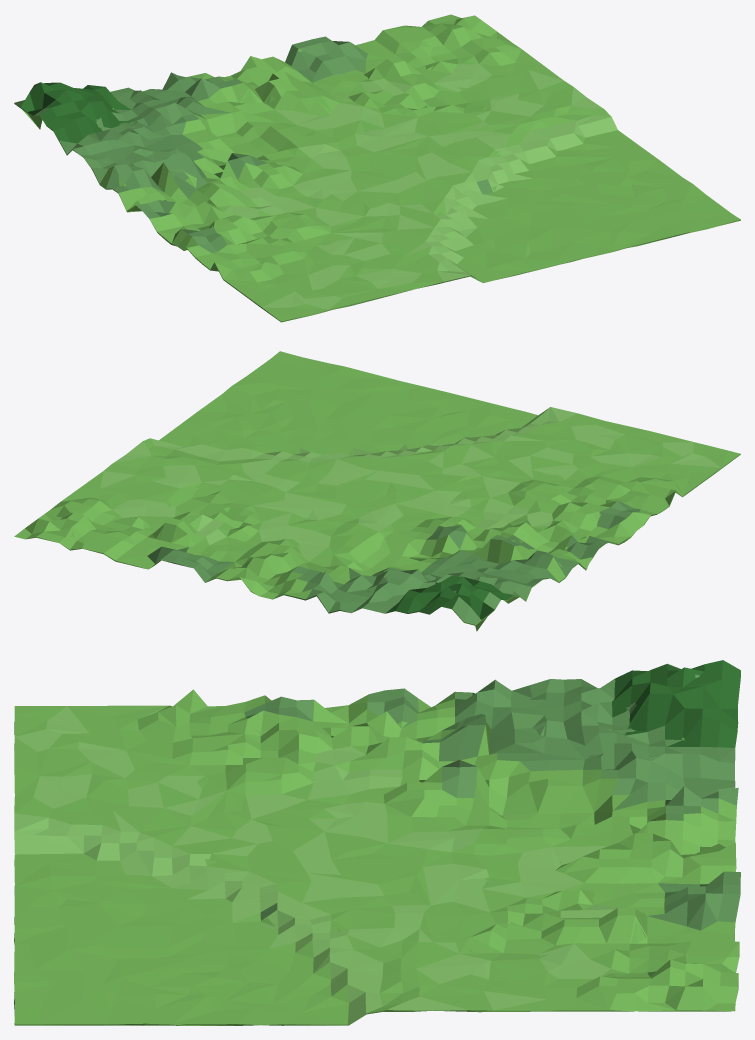
The model's file is land.glb.
3 renders of one model, top to bottom at view 1: azimuth 30°, elevation 25°; view 2: azimuth 150°, elevation 25°; view 3: azimuth 270°, elevation 25°, orthographic. The views are drawn at different scales.
Parts seen in each view (by area): view 1: Plane; view 2: Plane; view 3: Plane.
Part boxes in pixels (left/top/right/bottom): Plane: left=14, top=14, right=740, bottom=322; Plane: left=14, top=351, right=740, bottom=631; Plane: left=14, top=660, right=740, bottom=1025.
Size of the model in its own units: 101 by 11.6 by 101.
